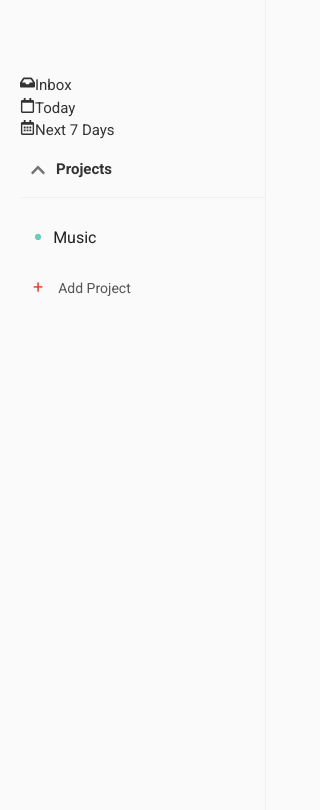
Test: <Sidebar /> › Success › renders the sidebar and hides the projects
click on Projects to hide the project list
Click the heading "Projects".
click(84, 168)  # box [56,160,112,178]
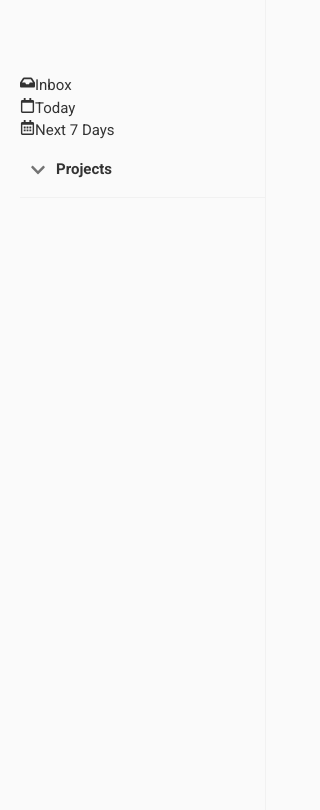
Expected: the text "Add Project" is gone
click on Projects to show the project list
Click the heading "Projects".
click(84, 168)  # box [56,160,112,178]
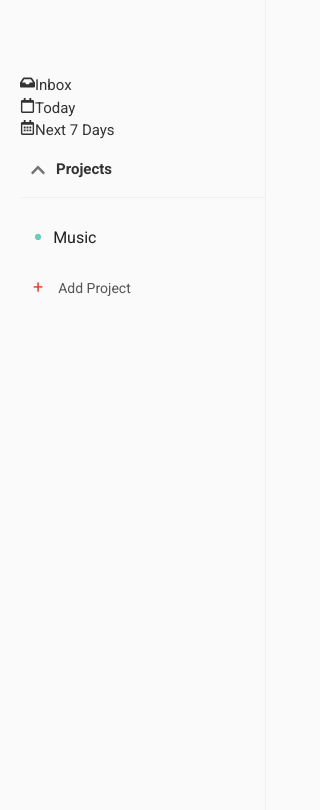
Expected: the text "Add Project" is shown, [58,280,131,294]
